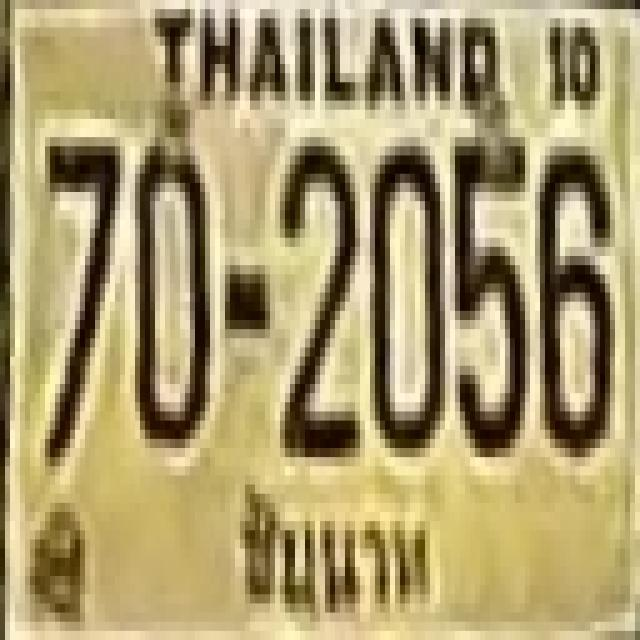0: (130, 132, 205, 444), (368, 137, 438, 448)
2: (280, 137, 355, 448)
5: (450, 128, 525, 448)
6: (535, 137, 610, 448)
7: (40, 132, 115, 452)
CNT: (226, 474, 439, 616)
